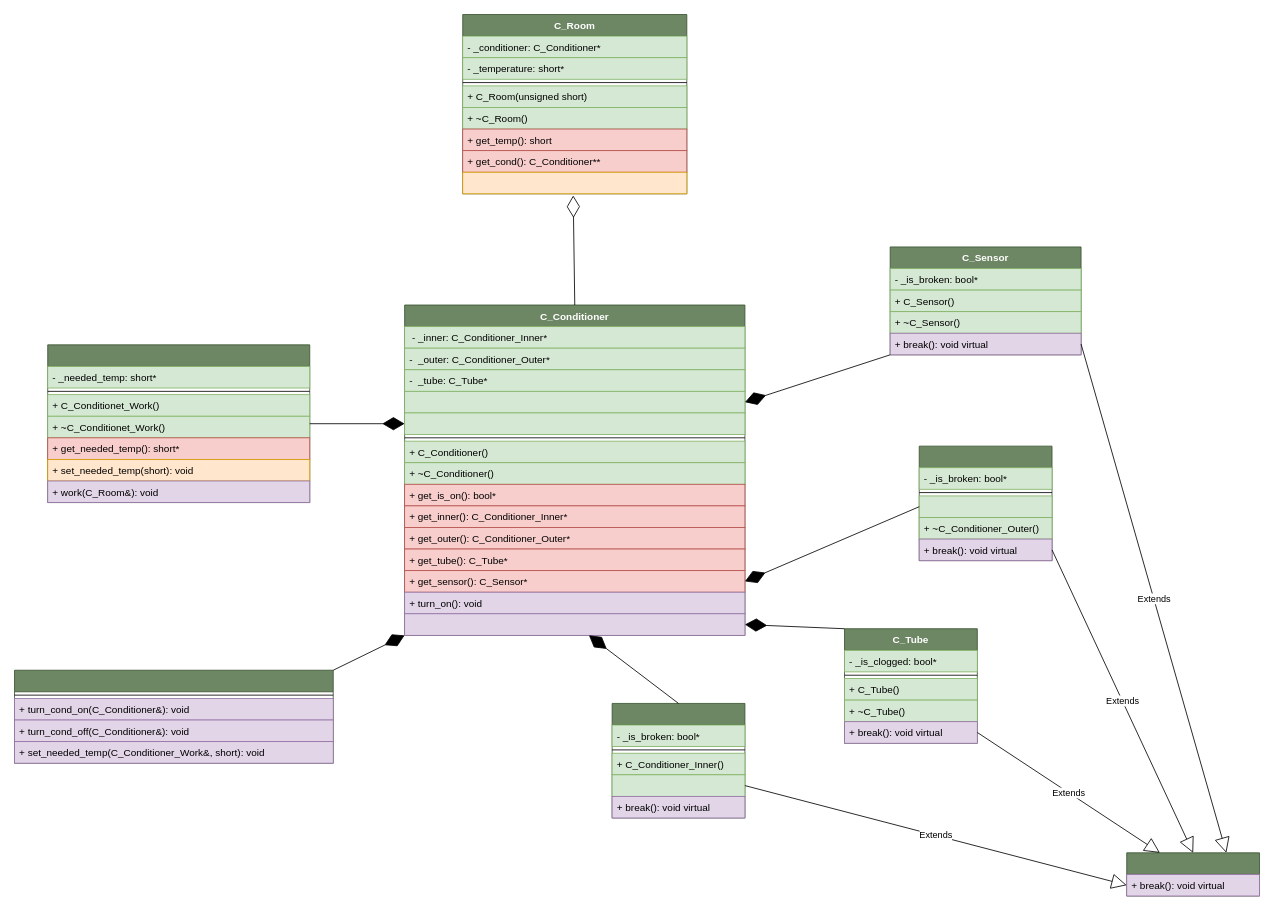
This 1274x915 diagram has some shape labels left out. The shapes that lost their labels are listed below. From the top down, each one's box as (x1, y1, x2, y2) in pixels, then its label:
(462, 171, 687, 194): + set_temp(unsigned short): void
(404, 391, 745, 413): - _sensor: C_Sensor*
(47, 344, 310, 503): C_Conditioner_Work
(404, 412, 745, 435): - _is_on: bool*
(918, 445, 1052, 561): C_Conditioner_Inner
(918, 495, 1052, 518): + C_Conditioner_Outer()
(404, 613, 745, 635): + turn_off(): void
(14, 669, 333, 763): C_Controller
(611, 703, 745, 818): C_Conditioner_Outer
(611, 774, 745, 796): + ~C_Conditioner_Inner()
(1126, 852, 1260, 896): C_Break
